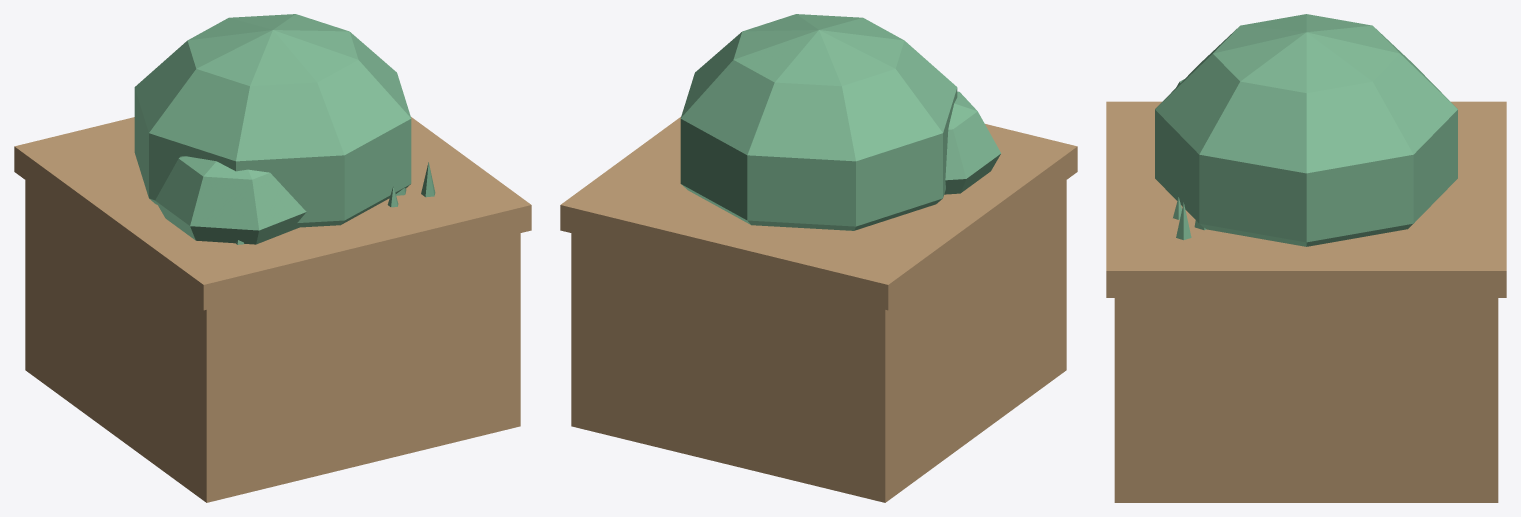
The model's file is tennis-club-and-courts-terrace-planter-993ea42a__33642.glb.
3 views of the same model, side by side, from view 1: azimuth 30°, elevation 25°; view 2: azimuth 150°, elevation 25°; view 3: azimuth 270°, elevation 25° (orthographic). The views are drawn at different scales.
Visible parts, largest first — view 1: terrace-planter; view 2: terrace-planter; view 3: terrace-planter.
Boxes of the visible parts, x1=… form: terrace-planter: x1=14, y1=14, x2=531, y2=502; terrace-planter: x1=560, y1=14, x2=1077, y2=502; terrace-planter: x1=1106, y1=14, x2=1506, y2=502.
Bounding box in the file's own units: 0.94 × 1.01 × 0.94.
